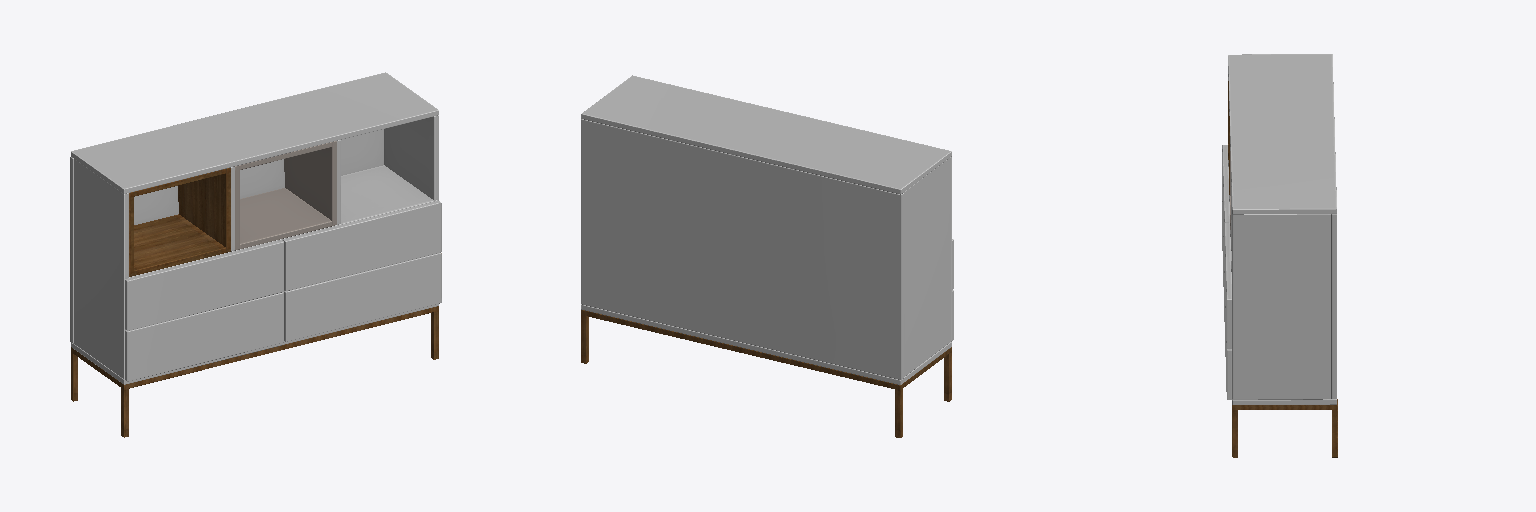
3 views of the same model, side by side, from view 1: azimuth 30°, elevation 25°; view 2: azimuth 150°, elevation 25°; view 3: azimuth 270°, elevation 25° (orthographic).
Visible parts, largest first — view 1: solid_001, solid_003, solid_002; view 2: solid_001, solid_003; view 3: solid_001, solid_003.
Boxes of the visible parts, <box> form: solid_001: <box>70,72,441,384</box>; solid_003: <box>71,168,438,437</box>; solid_002: <box>235,141,336,250</box>; solid_001: <box>581,75,953,384</box>; solid_003: <box>581,310,951,437</box>; solid_001: <box>1222,54,1336,404</box>; solid_003: <box>1228,81,1337,457</box>.
Size of the model in its own units: 1.27 by 0.9484 by 0.3984.
1 materials, 1 textured.